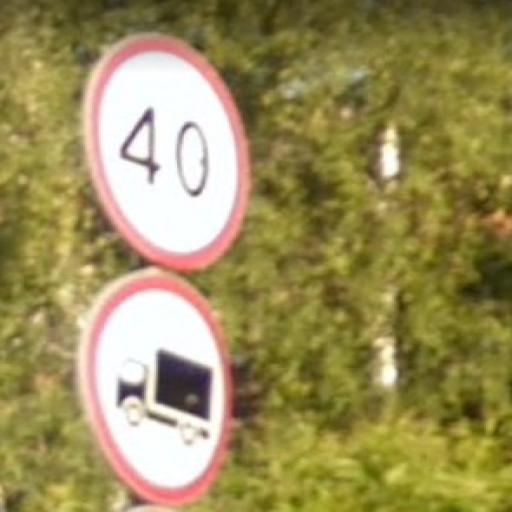traffic_sign: (82, 32, 251, 271), (79, 271, 232, 504)
